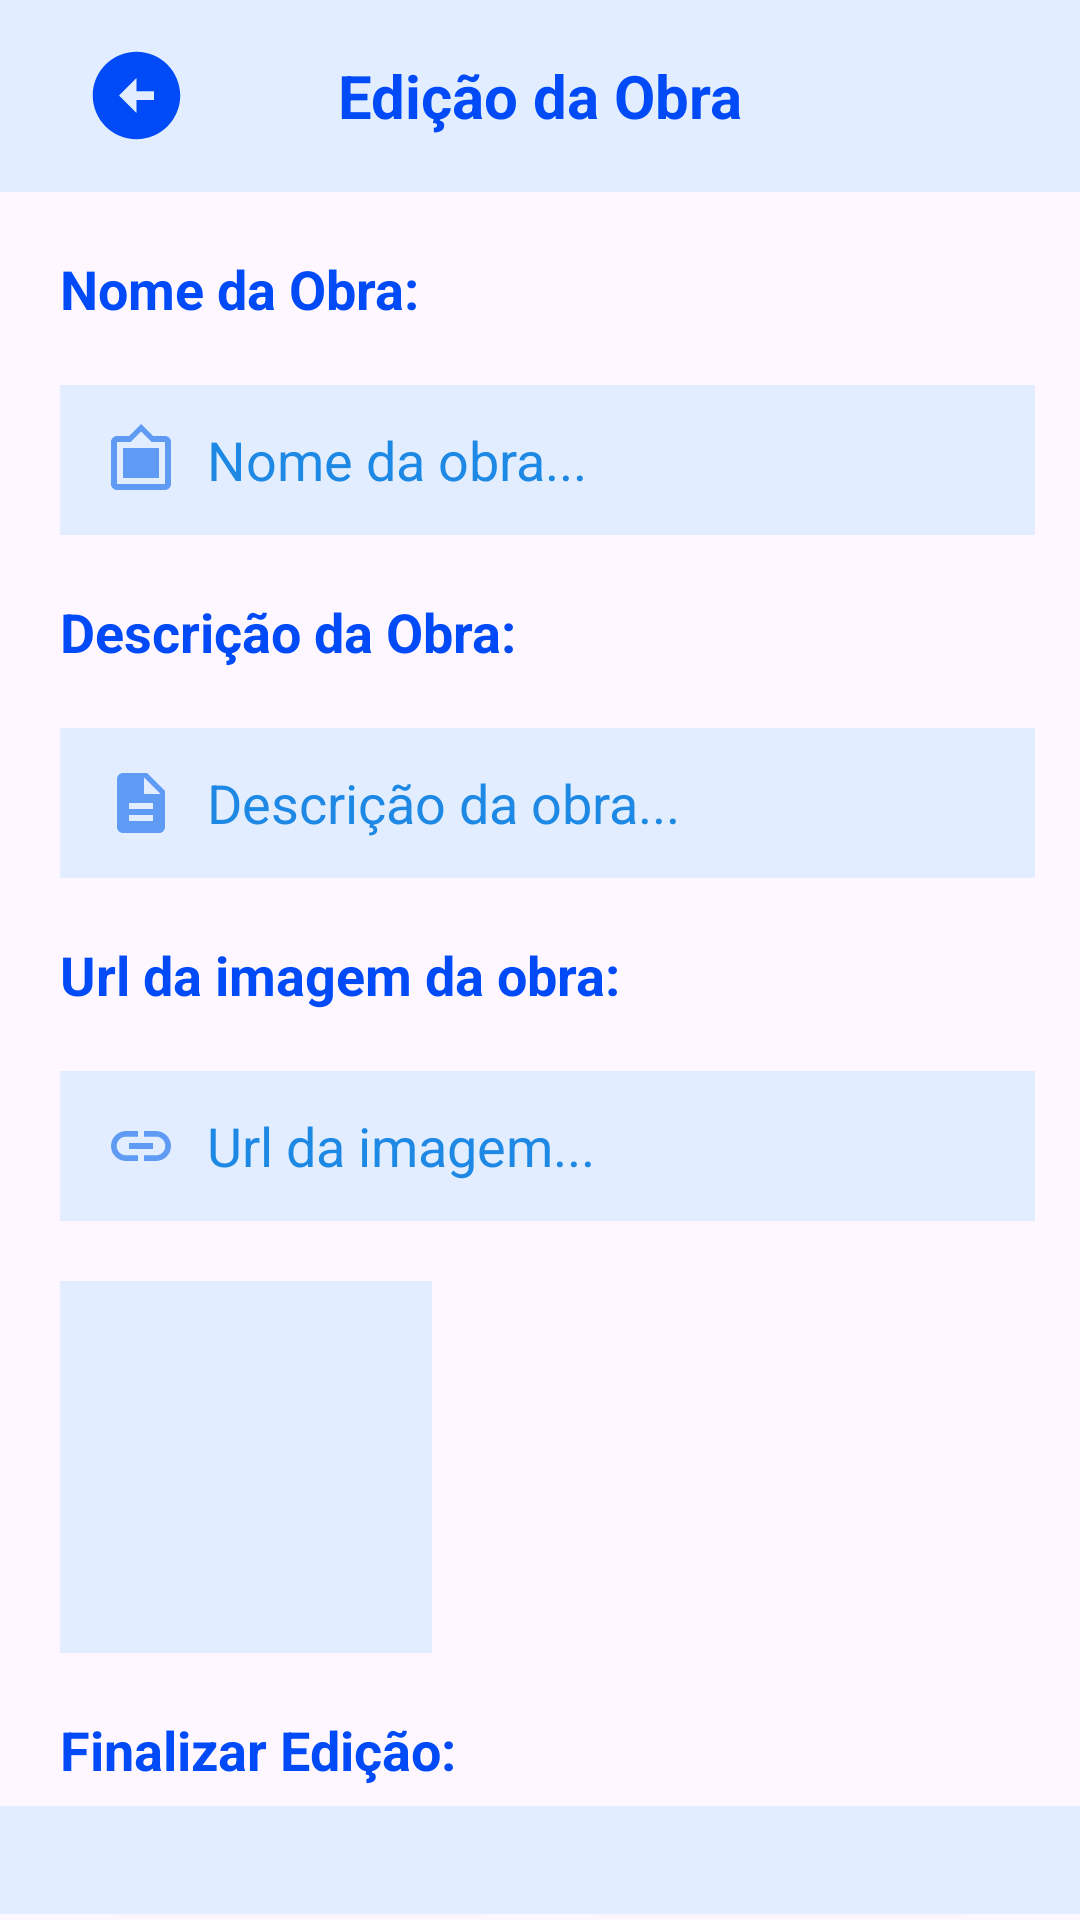

Icon click points for this 1080px×1920px phone screenshot, format (x=x, y=y):
arrow circle left: (x=136, y=95)
